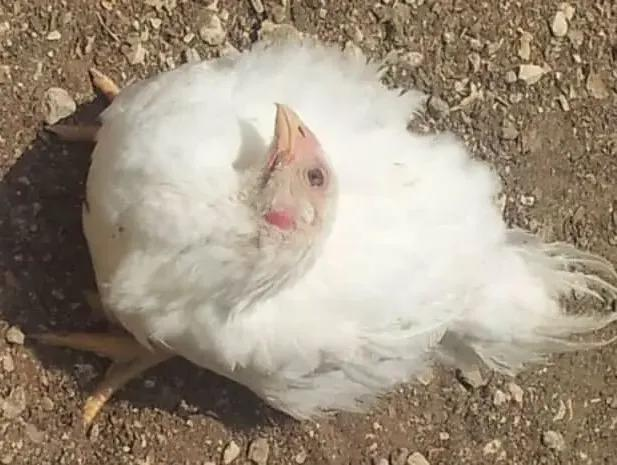AbNormal: (15, 35, 617, 418)
